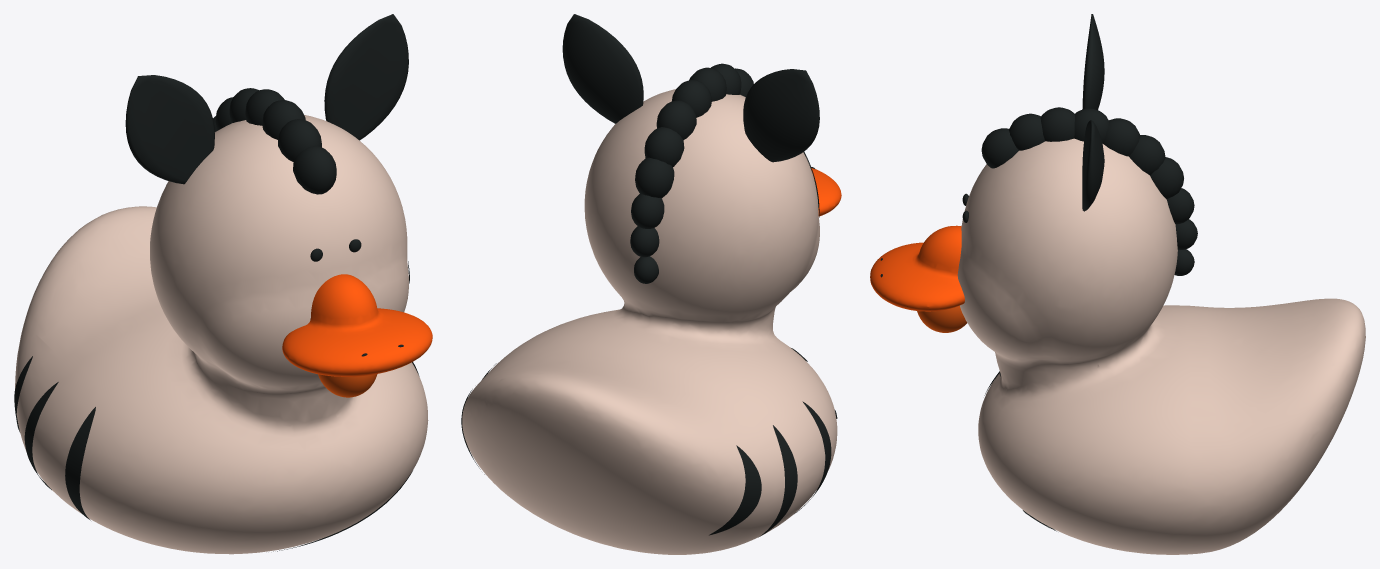
Rendered from zeeb-swimmer.glb.
3 renders of one model, left to right at view 1: azimuth 30°, elevation 25°; view 2: azimuth 150°, elevation 25°; view 3: azimuth 270°, elevation 25°, orthographic. The views are drawn at different scales.
Parts seen in each view (by area): view 1: Zeeb photo-guided swimmer; view 2: Zeeb photo-guided swimmer; view 3: Zeeb photo-guided swimmer.
Boxes of the visible parts, x1,y1,x2,y2 form: Zeeb photo-guided swimmer: (14,14,432,554); Zeeb photo-guided swimmer: (461,14,841,554); Zeeb photo-guided swimmer: (870,14,1365,554).
Bounding box in the file's own units: 1.35 × 1.82 × 1.83.
